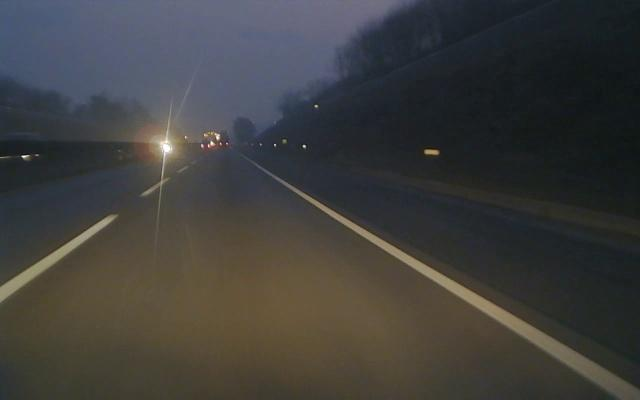lane: (268, 173, 640, 400), (0, 178, 168, 305)
